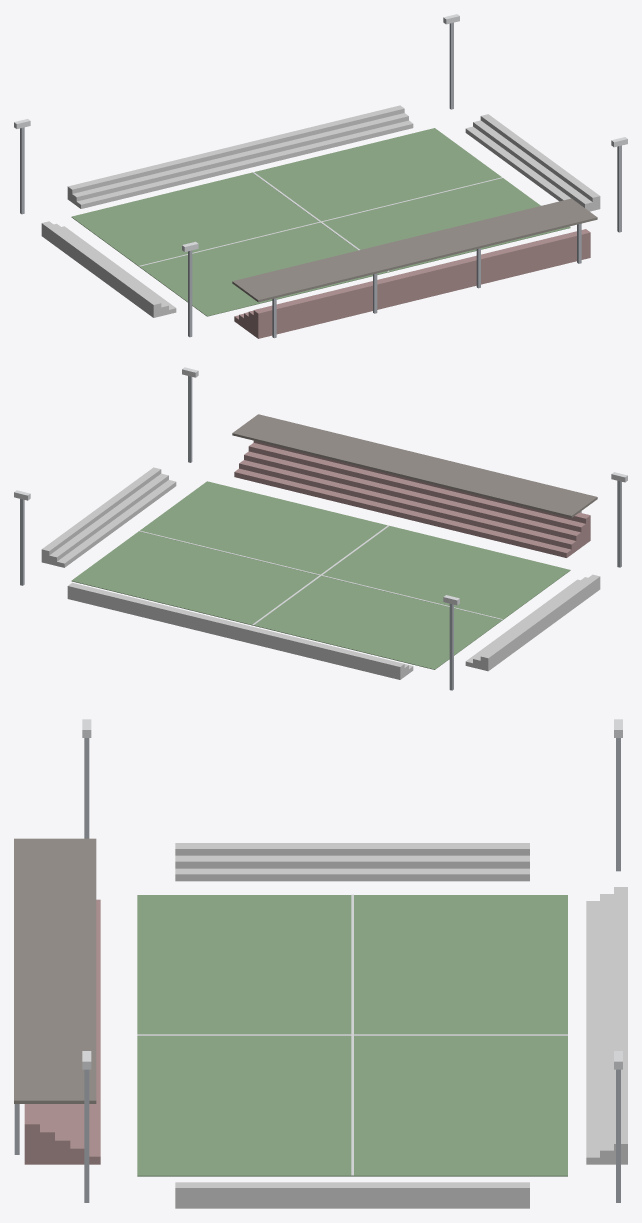
The model's file is retuerto.glb.
The picture shows the model from 3 angles, top to bottom: view 1: azimuth 30°, elevation 25°; view 2: azimuth 150°, elevation 25°; view 3: azimuth 270°, elevation 25°; orthographic projection. The views are drawn at different scales.
Size of the model in its own units: 129 by 25.4 by 97.
